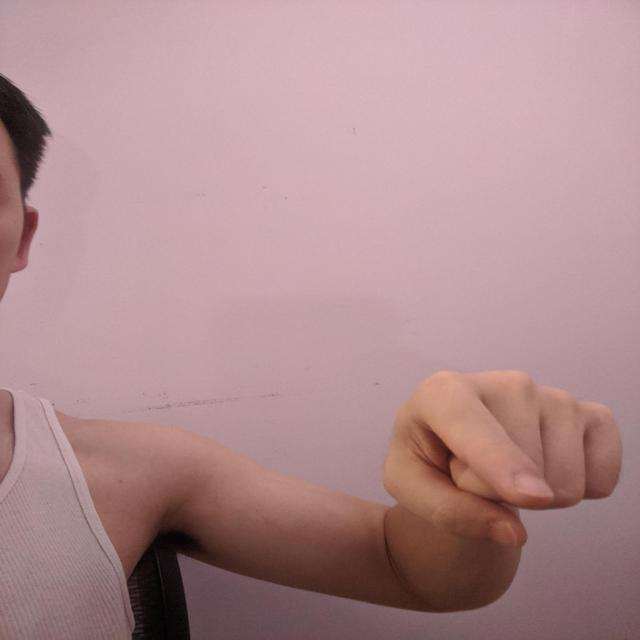Z: (377, 361, 631, 553)
